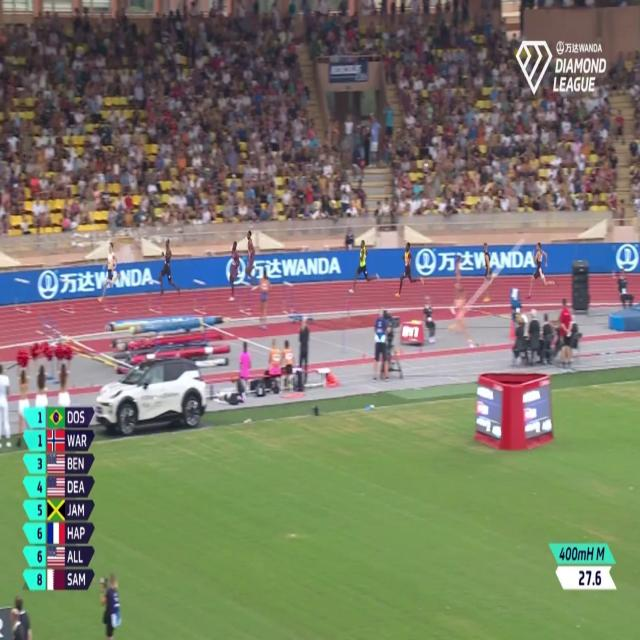athlete: (345, 233, 381, 303), (394, 235, 427, 299), (524, 237, 558, 297), (97, 233, 121, 307), (158, 233, 182, 302), (477, 237, 497, 302), (244, 223, 259, 294), (226, 242, 237, 302)
hurdle: (54, 273, 80, 318), (9, 272, 33, 317), (188, 273, 209, 321), (98, 272, 120, 314), (278, 276, 298, 320), (144, 274, 164, 314), (234, 275, 252, 319)
